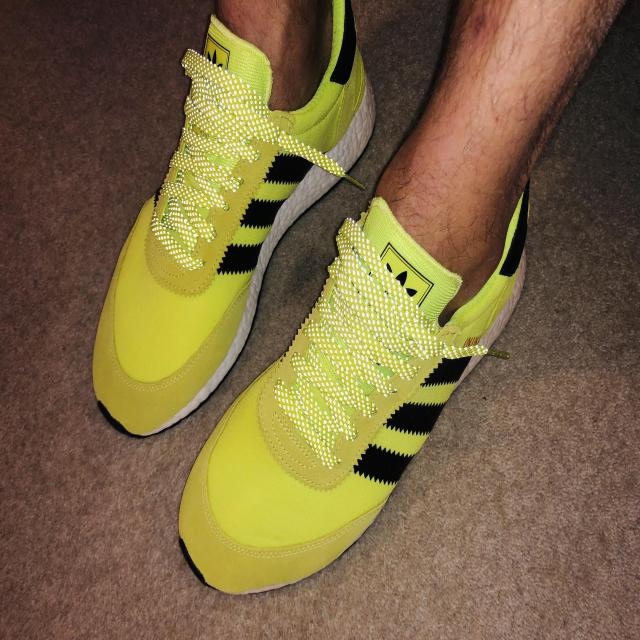shoe: (170, 173, 546, 606), (81, 0, 387, 443)
